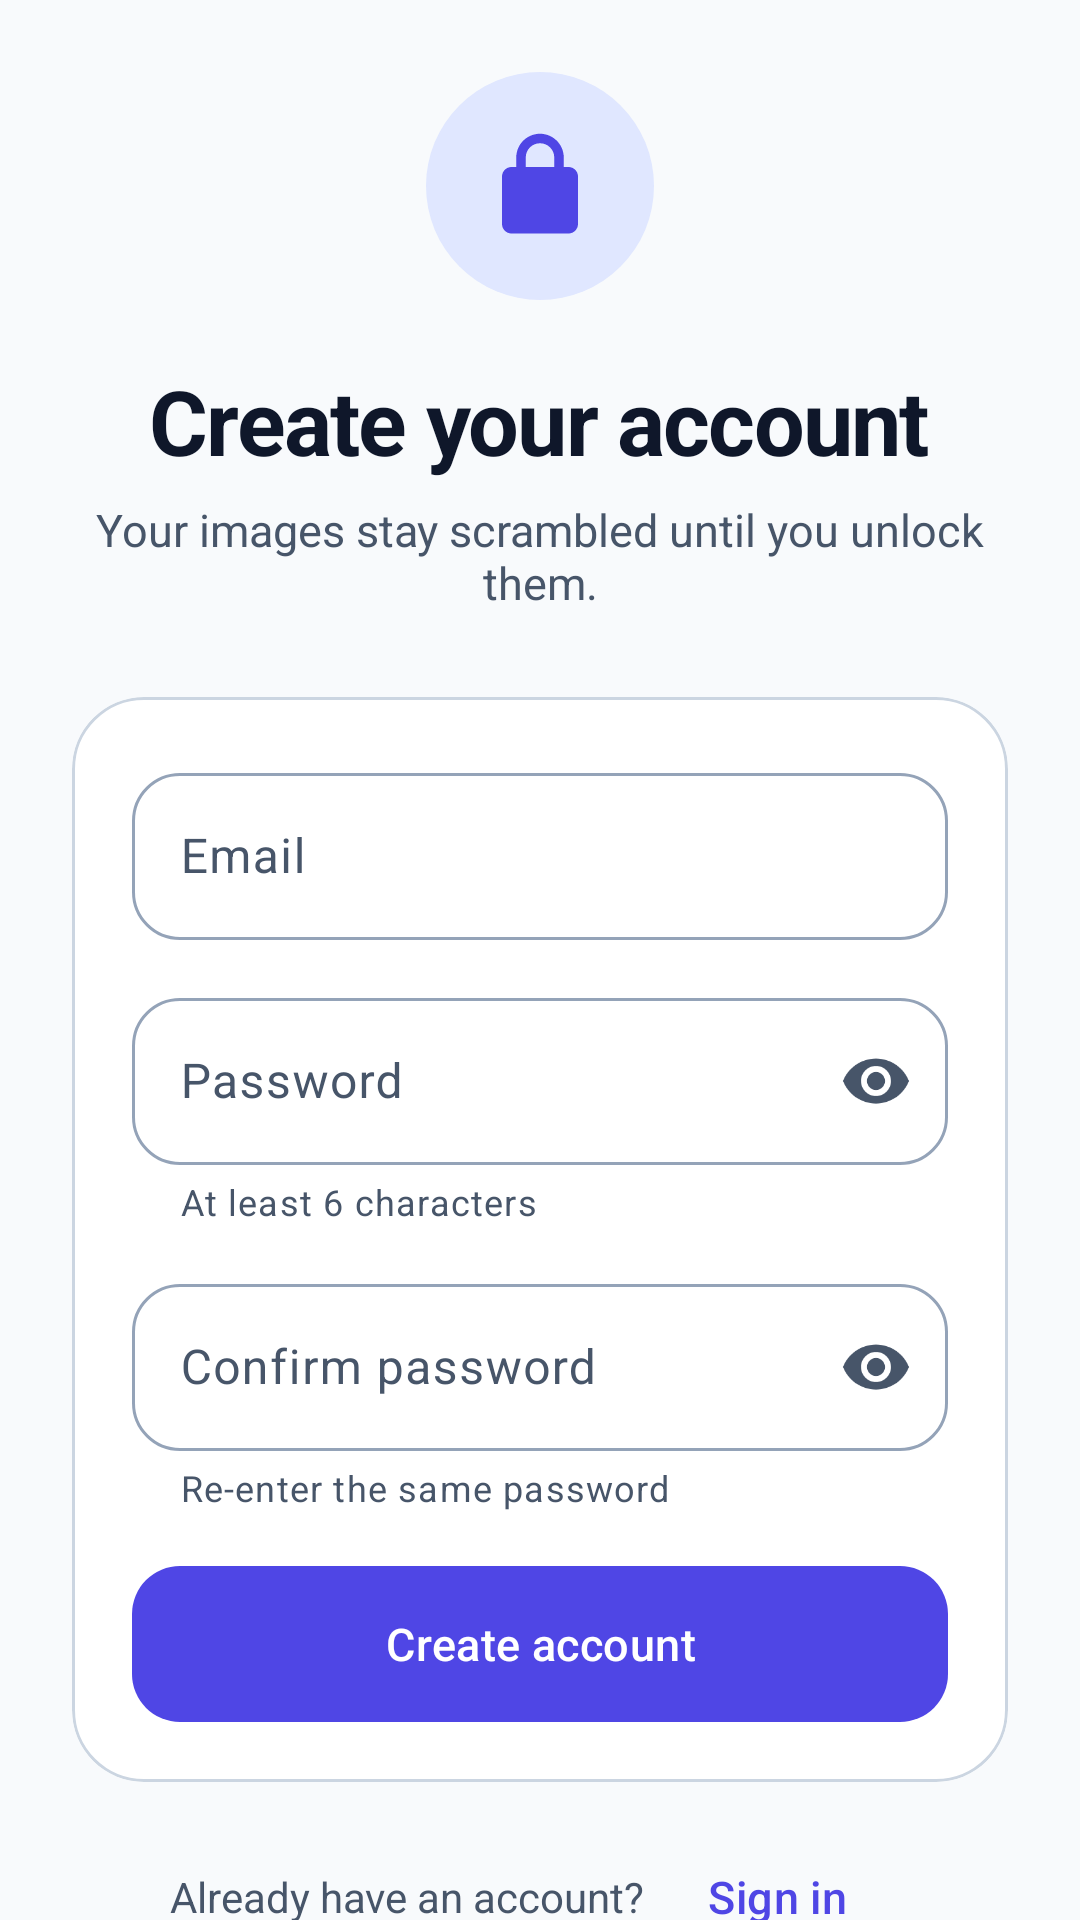

Named icons in this screenshot (1080x1920) and their bounding boxes, (x1, y1, x2, y2):
lock: (502, 133, 578, 234)
